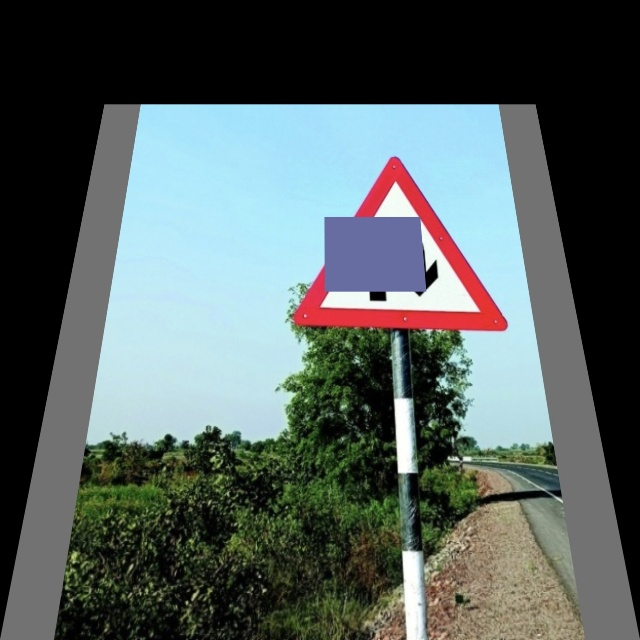Right_Hair_Pin_Bend: (294, 157, 510, 331)
